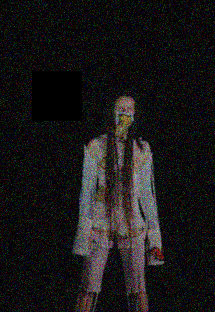with_mask: (112, 102, 135, 129)
